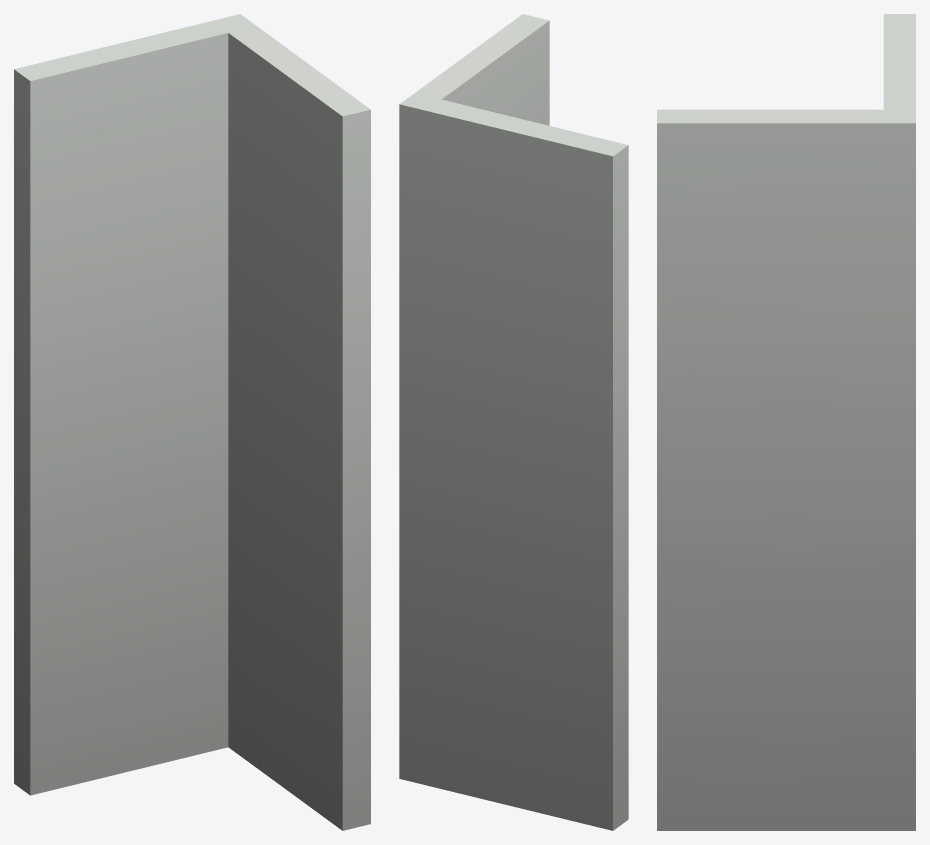
The model's file is Wall_Corner_1x3.fbx.
The picture shows the model from 3 angles, left to right: view 1: azimuth 30°, elevation 25°; view 2: azimuth 150°, elevation 25°; view 3: azimuth 270°, elevation 25°; orthographic projection. The views are drawn at different scales.
Parts seen in each view (by area): view 1: Wall_Corner_1x3; view 2: Wall_Corner_1x3; view 3: Wall_Corner_1x3.
Boxes of the visible parts, left/top/right/bottom form: Wall_Corner_1x3: left=14, top=14, right=370, bottom=830; Wall_Corner_1x3: left=399, top=14, right=628, bottom=830; Wall_Corner_1x3: left=657, top=14, right=915, bottom=830.
Bounding box in the file's own units: 100 × 302 × 100.
